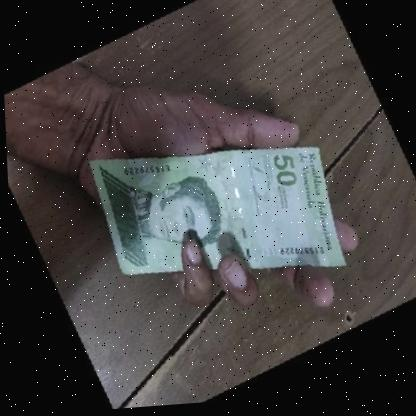fifty-front-vef: (83, 93, 352, 338)
